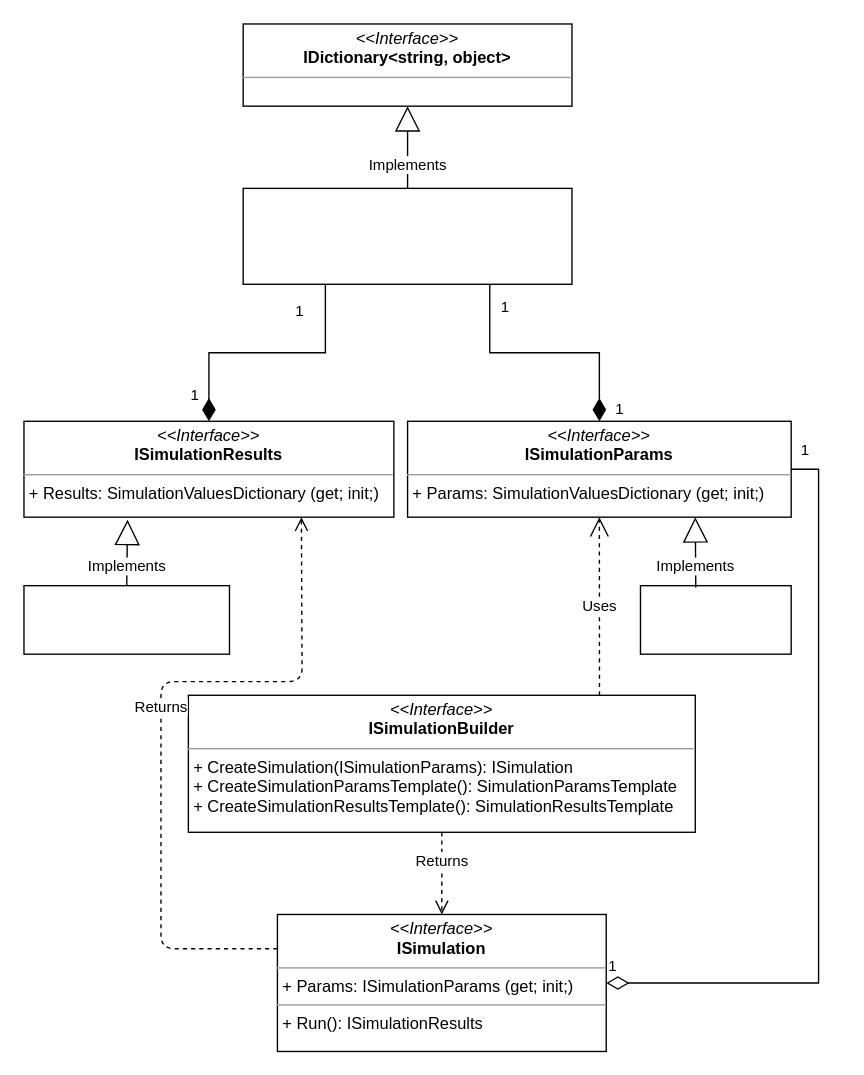
Some shapes in this 864 by 1075 pixel diagram are drawn without their labels. Here are the shapes that lost their labels. From the top down, the centre of each, then its label:
the point at 407,235: <<Sealed Class>> SimulationValuesDictionary
the point at 126,619: SimulationResults
the point at 715,619: SimulationParams
